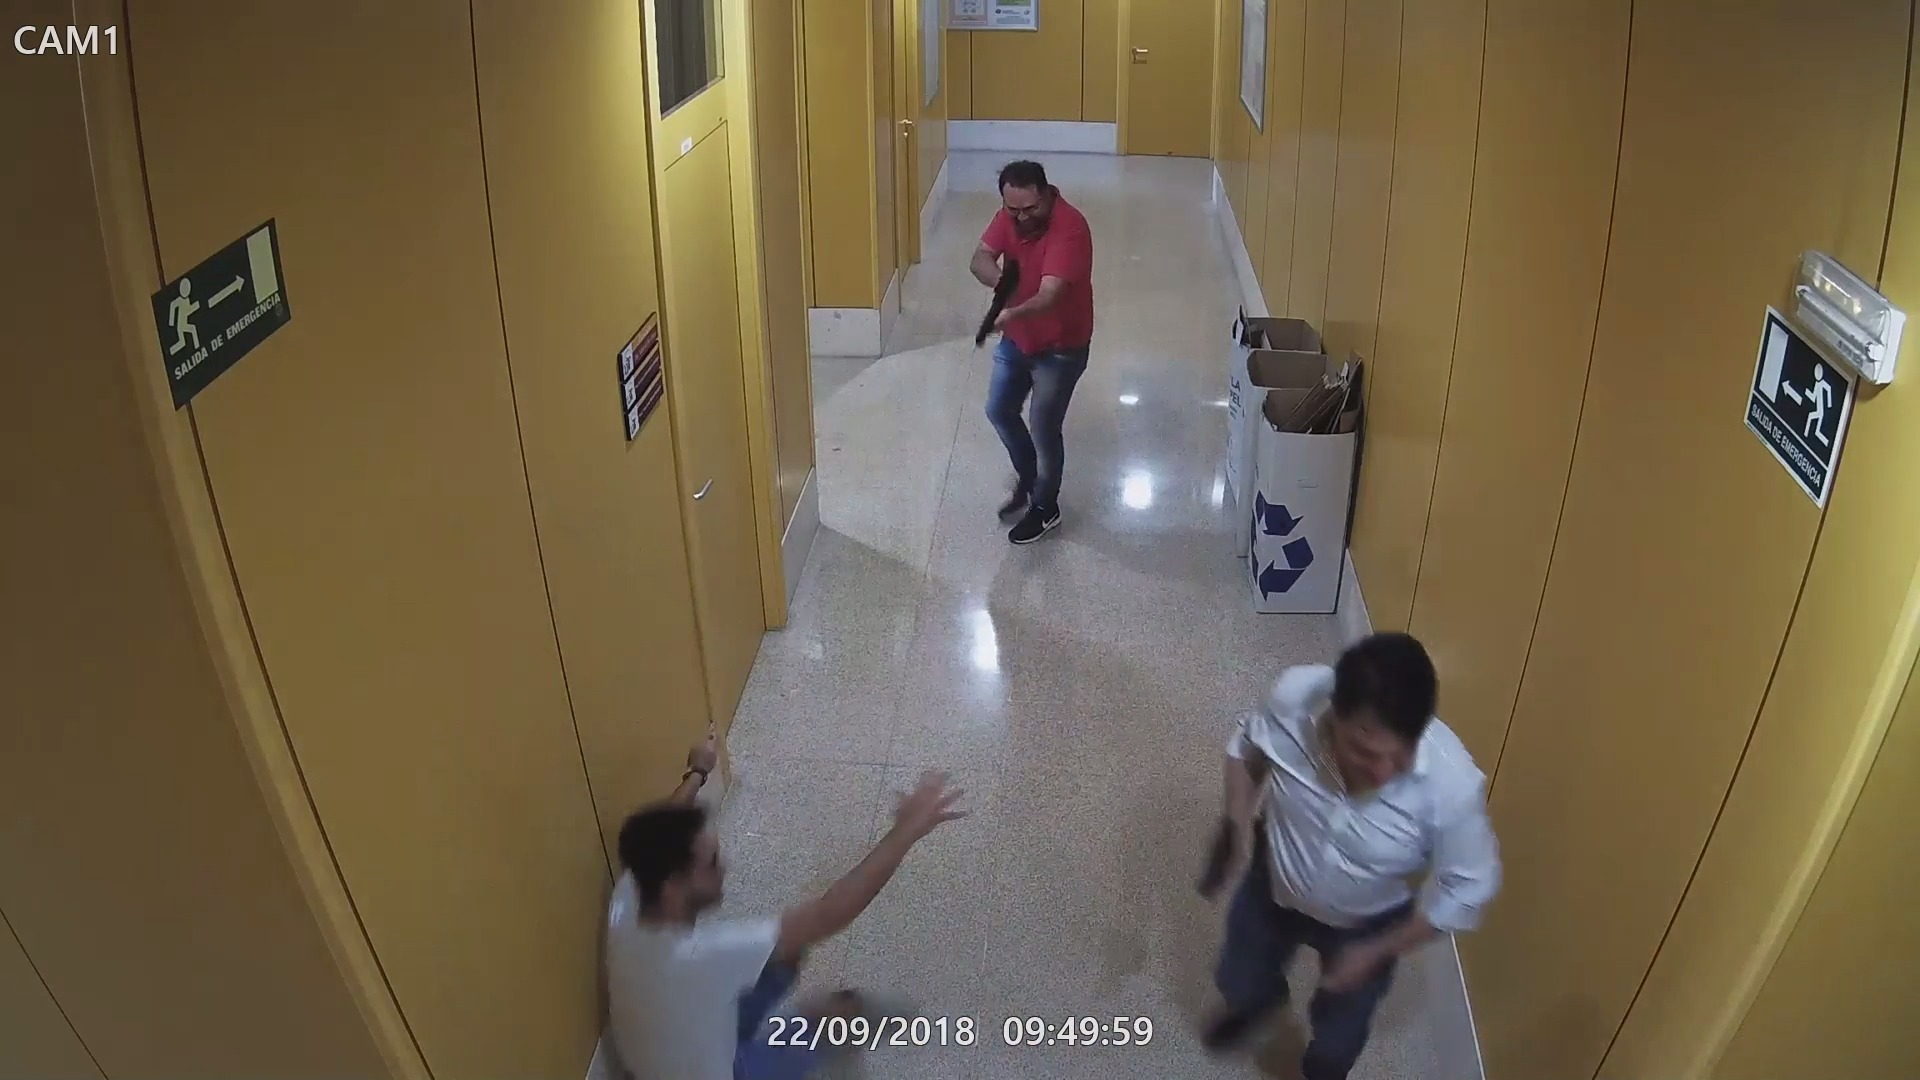Handgun: (1193, 811, 1250, 910)
Short_rifle: (975, 256, 1025, 349)
